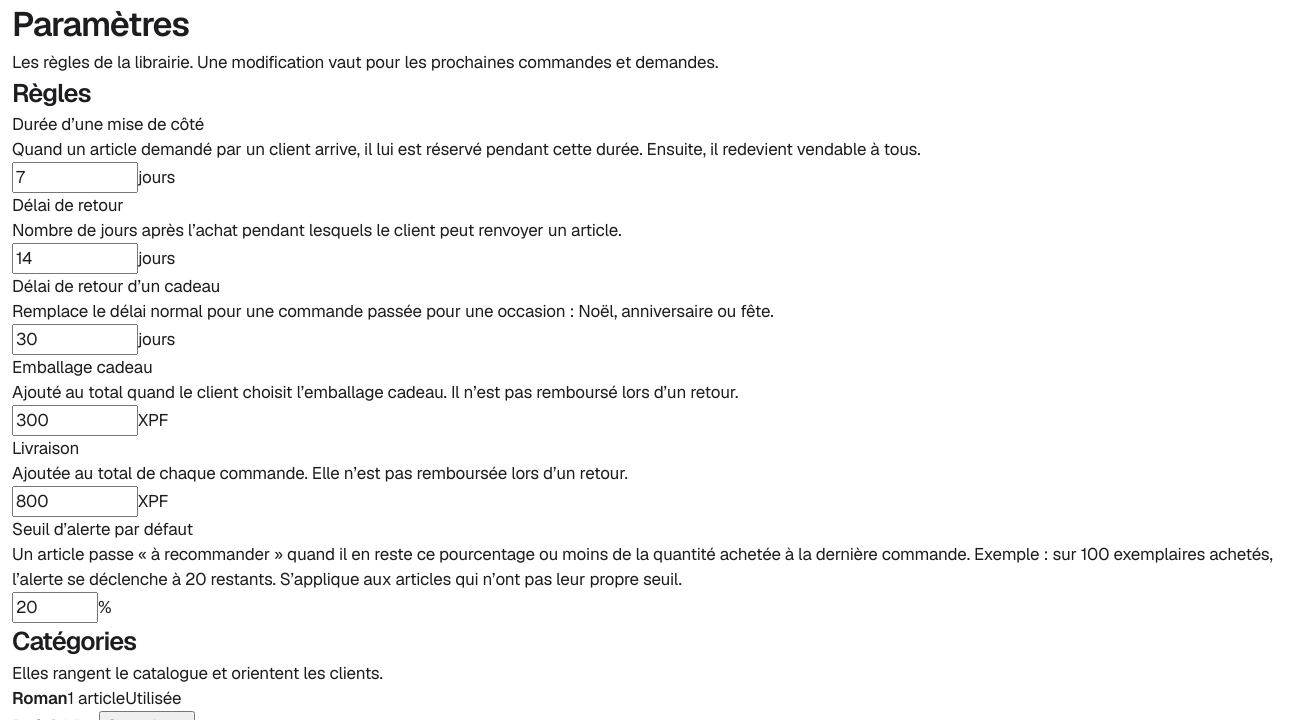
it: page des paramètres › explique une erreur du serveur qui ne vise aucun champ et garde la saisie
Step 1. Replace the text in the number field named "Délai de retour (jours)" with "21" → (75, 259), box [12,243,138,274]
(page scrolled)
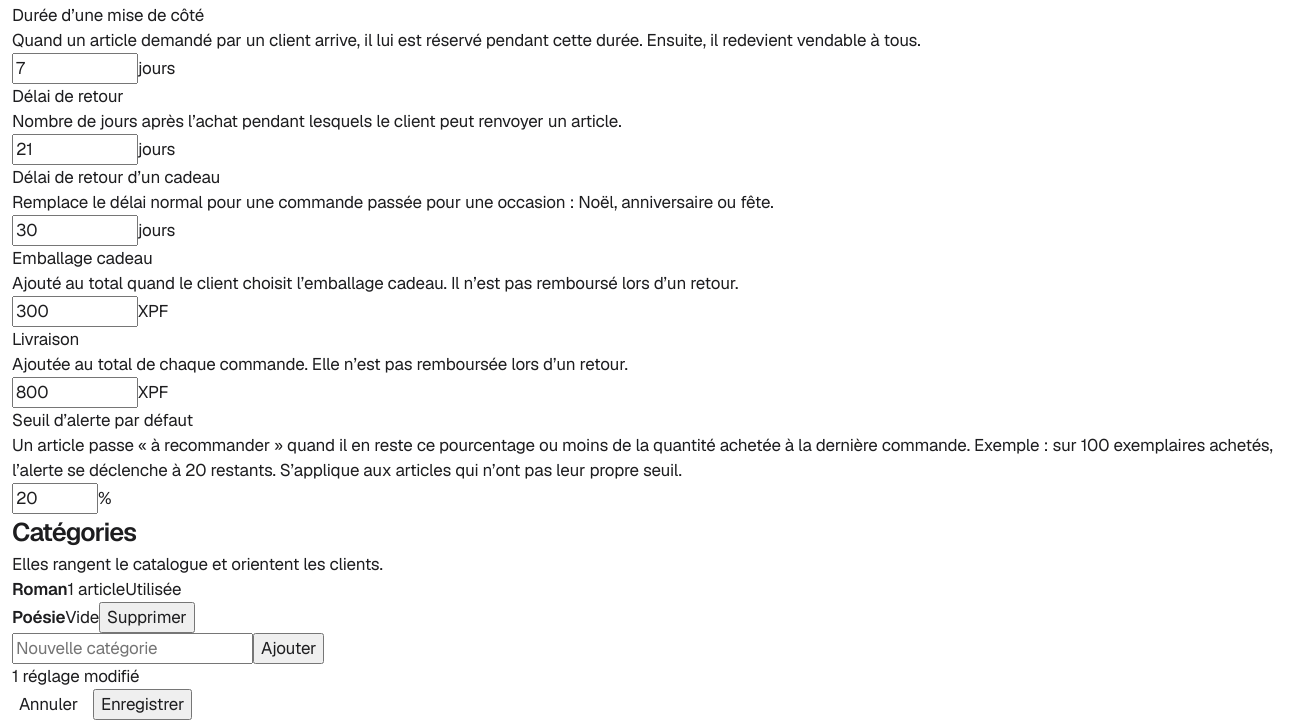
Step 2. Click the button "Enregistrer" → click(143, 704), box [93,688,192,719]
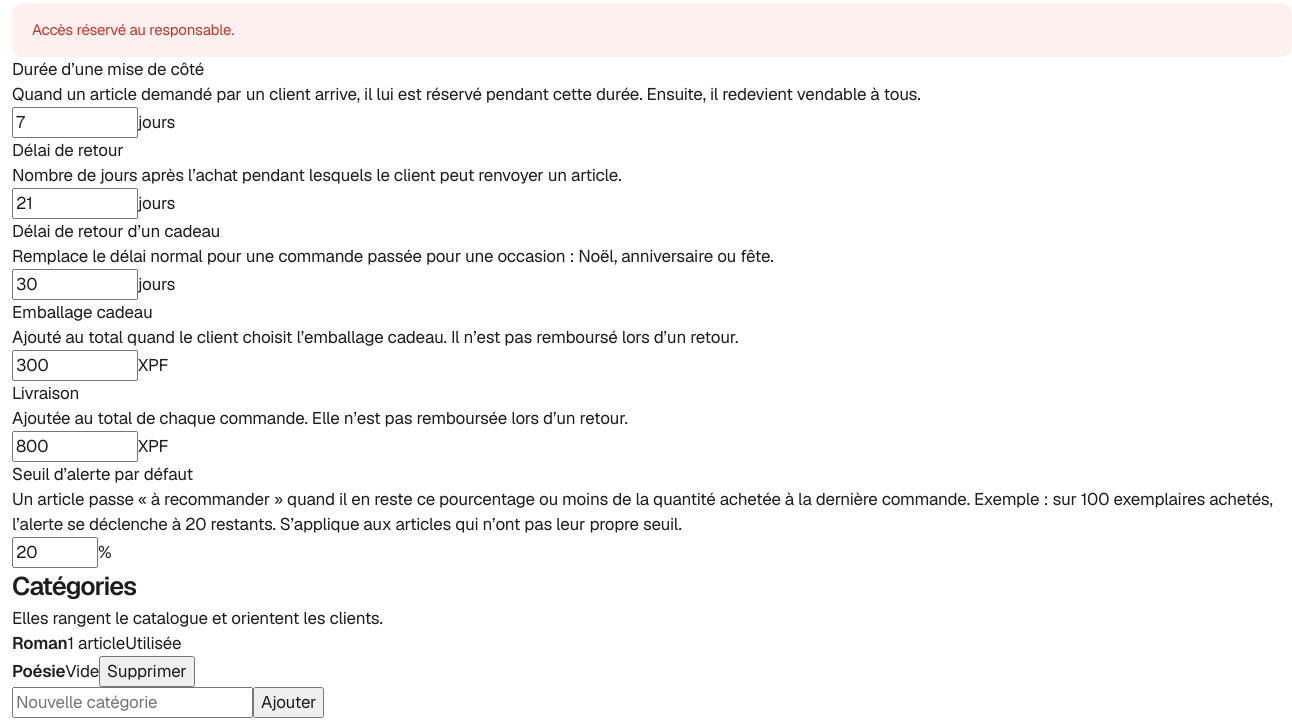
Expected: the message reads "Accès réservé au responsable.", [32,20,234,39]
